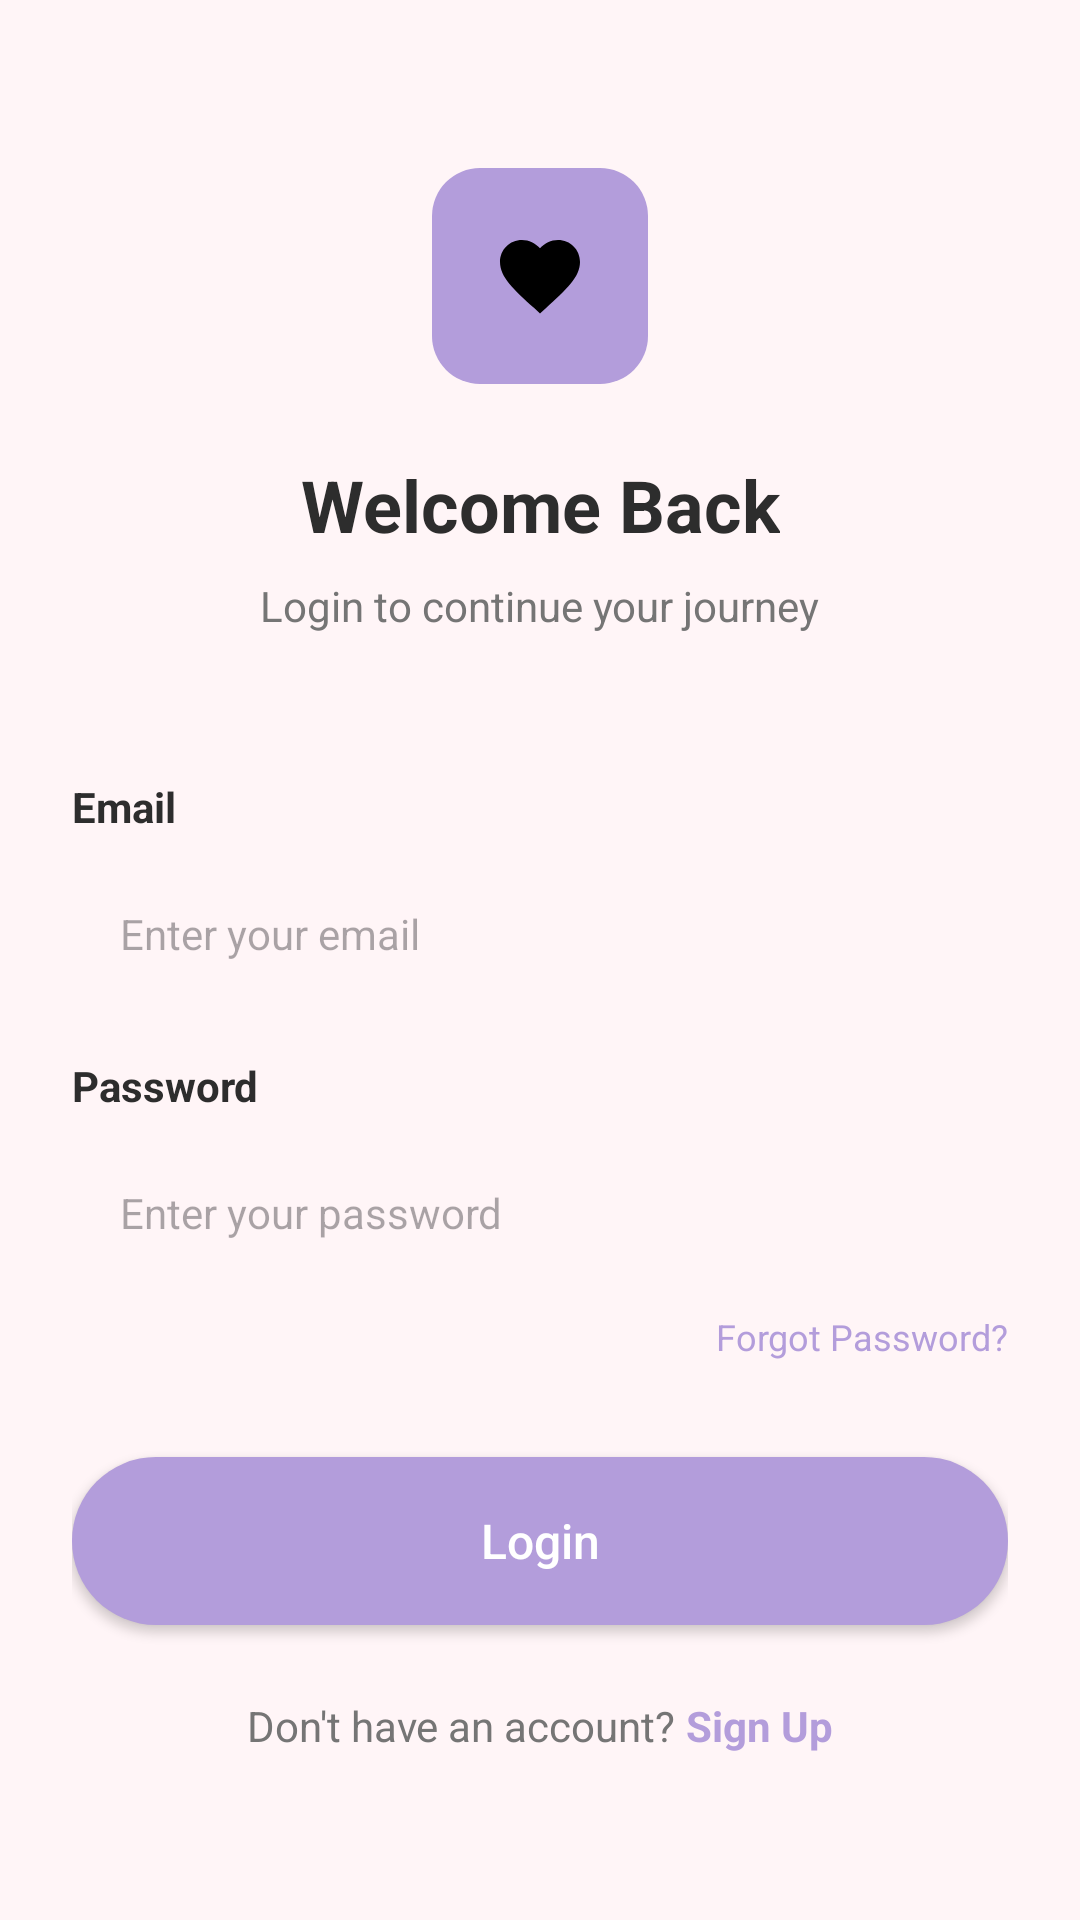

Screen size 1080w x 1920h. Icon name, then its box in pixels as (x1, y1, x2, y2):
heart: (500, 240, 580, 314)
